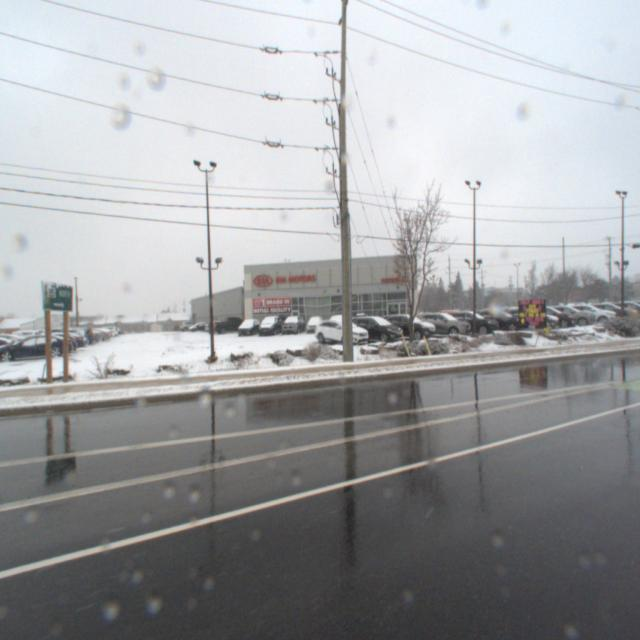Car: (311, 316, 371, 350), (344, 315, 406, 345), (375, 313, 437, 342), (410, 312, 472, 340), (439, 311, 499, 339), (495, 309, 557, 335), (466, 311, 525, 337), (515, 308, 575, 333), (533, 308, 593, 330), (554, 307, 612, 329), (255, 312, 282, 335), (277, 312, 303, 334), (233, 315, 261, 335), (300, 312, 324, 334)
